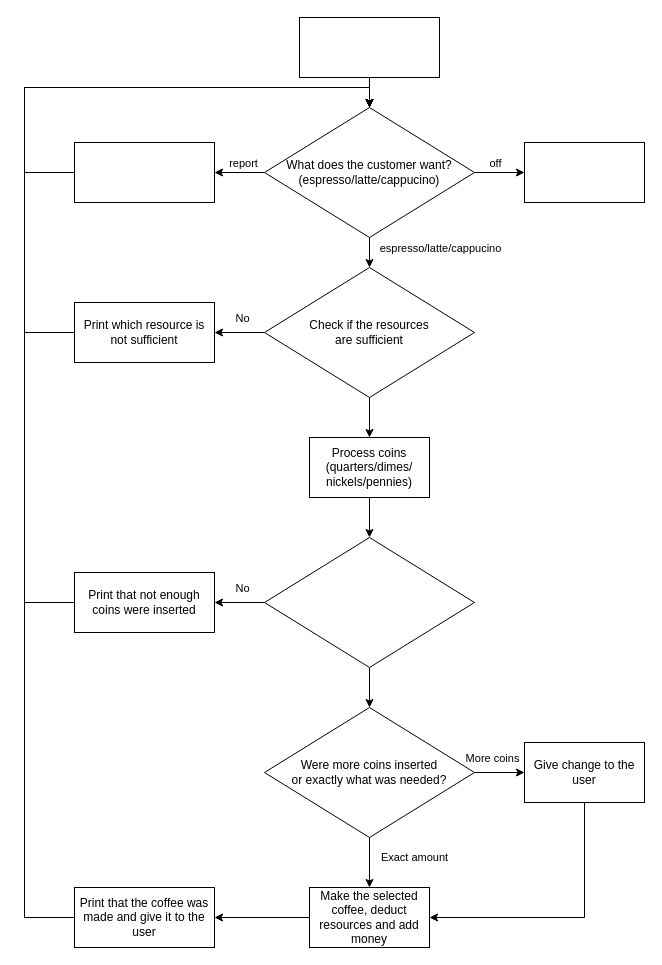
This 662x965 diagram has some shape labels left out. The centre of each missing label's shape, as x and y in pixels:
Check if the transaction was successful: point 369,602
End Program: point 584,172
Print report. water/milk/coffee/money: point 144,172
Start: point 369,47
